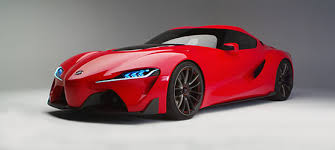car: (34, 18, 313, 132)
